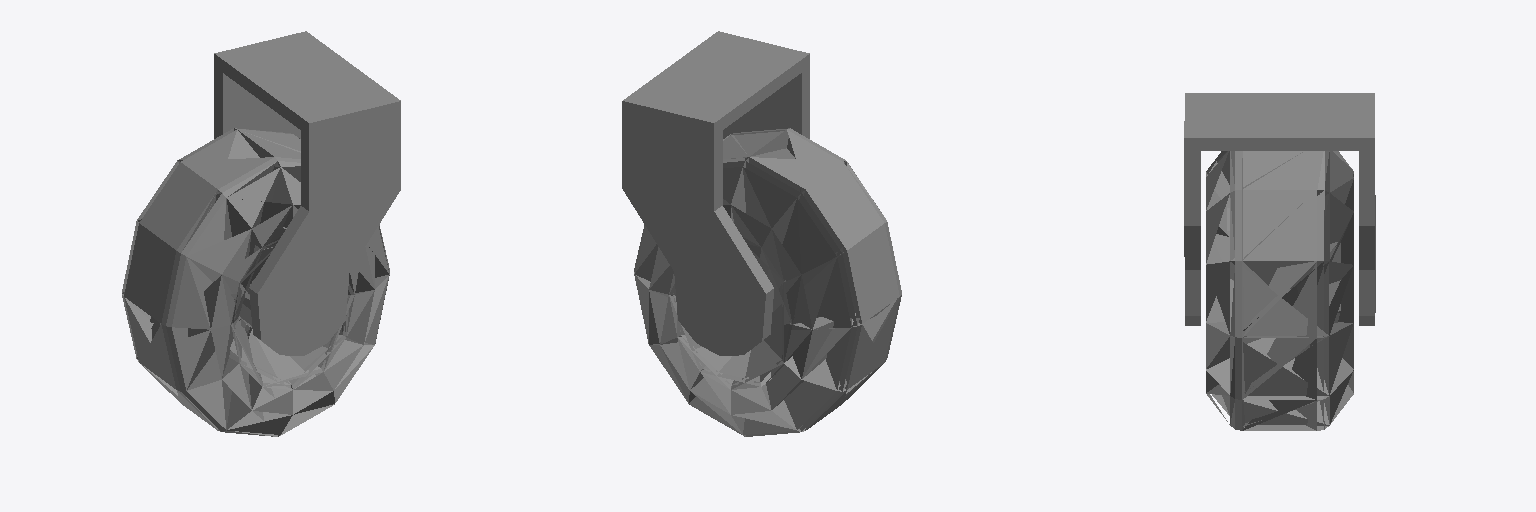
Rendered from llanta2.obj.
3 renders of one model, left to right at view 1: azimuth 30°, elevation 25°; view 2: azimuth 150°, elevation 25°; view 3: azimuth 270°, elevation 25°, orthographic.
Visible parts, largest first — view 1: Cylinder05, Box006; view 2: Cylinder05, Box006; view 3: Cylinder05, Box006.
Part boxes in pixels (x1,y1,x2,y2): Cylinder05: (122, 128, 389, 436); Box006: (214, 31, 400, 355); Cylinder05: (634, 128, 901, 436); Box006: (622, 31, 809, 355); Cylinder05: (1206, 151, 1353, 430); Box006: (1184, 93, 1375, 325).
Bounding box in the file's own units: 3.06 × 4.29 × 2.24.